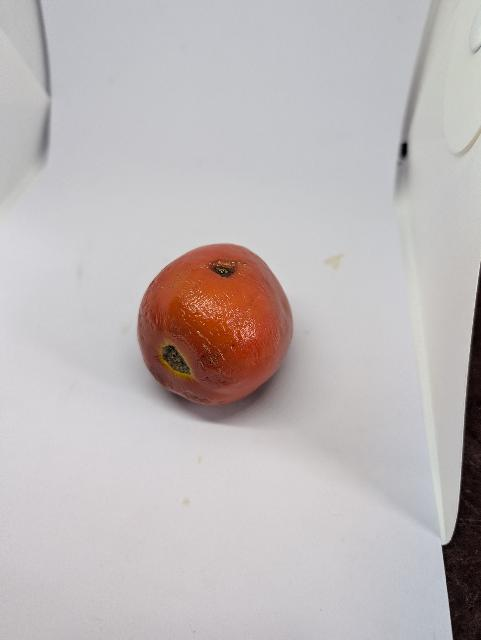defect: (133, 239, 300, 411)
